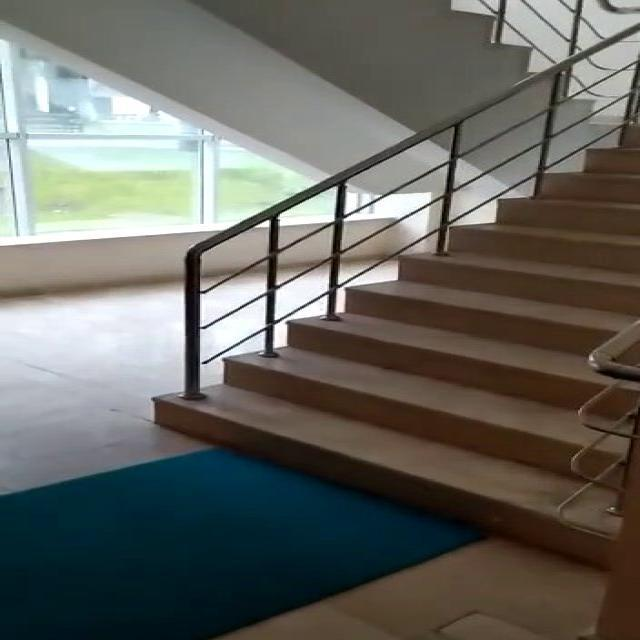stair: (112, 76, 640, 571)
